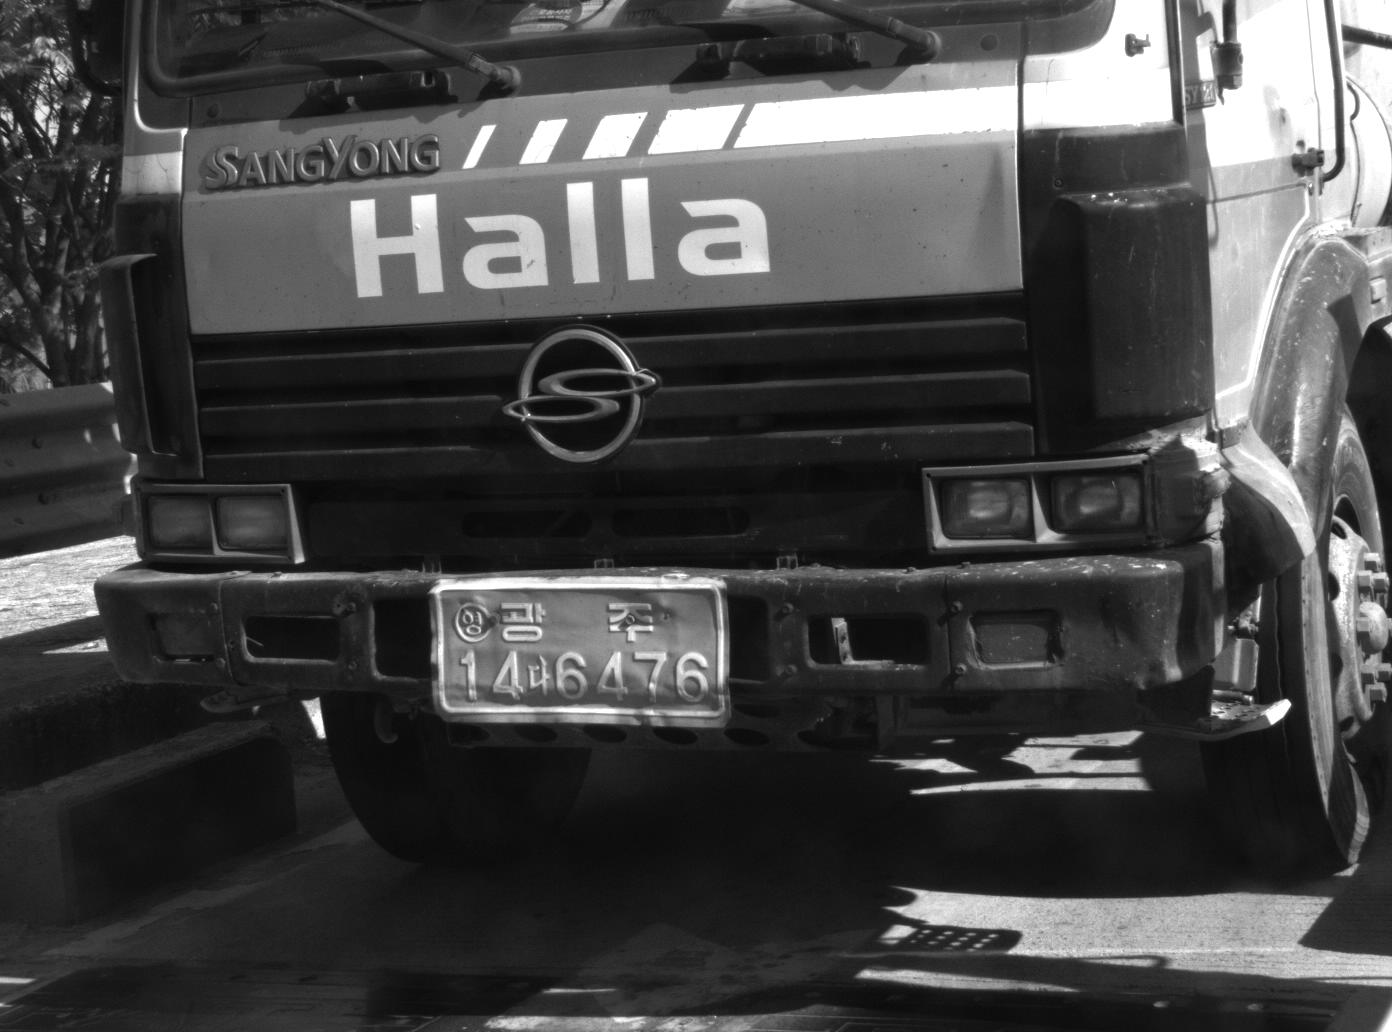car: (67, 1, 1389, 880)
plate: (424, 573, 736, 730)
